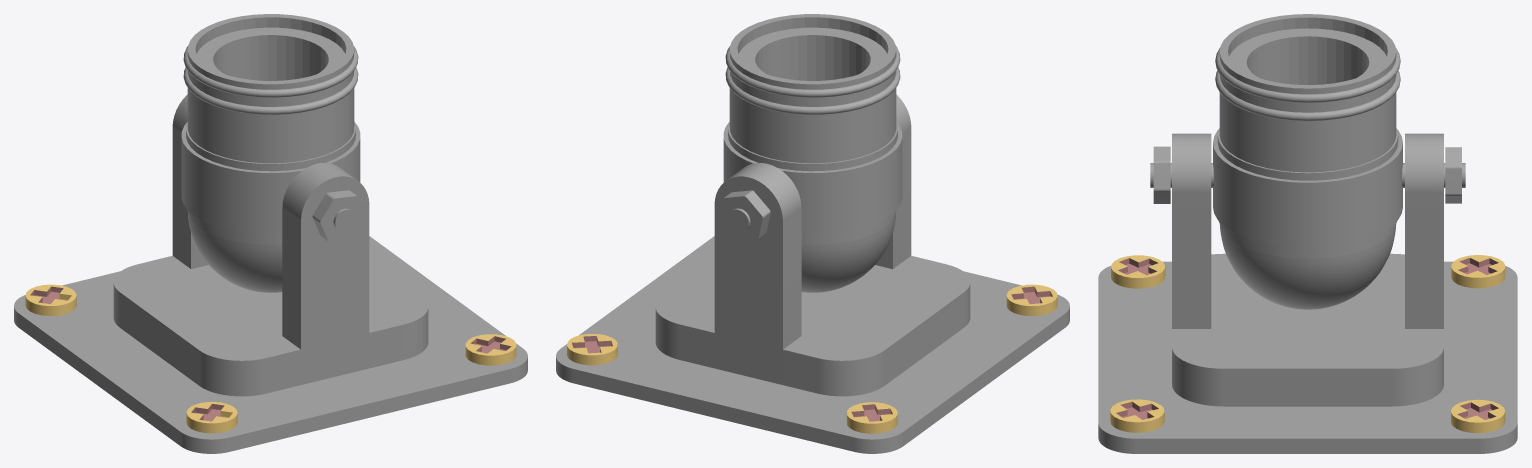
Rendered from LockEmitter.fbx.
3 views of the same model, side by side, from view 1: azimuth 30°, elevation 25°; view 2: azimuth 150°, elevation 25°; view 3: azimuth 270°, elevation 25° (orthographic). The views are drawn at different scales.
Visible parts, largest first — view 1: LockEmitterBase, LockEmitterBody, LockEmitterCilinders, LockEmitterFemaleScrew_L, Screw4, Screw5, Screw6; view 2: LockEmitterBase, LockEmitterBody, LockEmitterCilinders, LockEmitterFemaleScrew_R, Screw5, Screw6, Screw3; view 3: LockEmitterBase, LockEmitterBody, LockEmitterCilinders, Screw4, Screw5, Screw6, Screw3, LockEmitterFemaleScrew_L, LockEmitterFemaleScrew_R, LockEmitterBar.
Part boxes in pixels (x1,y1,x2,y2): LockEmitterBase: (14, 94, 527, 453); LockEmitterBody: (183, 14, 358, 292); LockEmitterCilinders: (181, 121, 360, 240); LockEmitterFemaleScrew_L: (312, 190, 366, 242); Screw4: (465, 334, 516, 365); Screw5: (186, 402, 237, 433); Screw6: (25, 284, 76, 315); LockEmitterBase: (556, 94, 1069, 453); LockEmitterBody: (725, 14, 900, 292); LockEmitterCilinders: (723, 121, 902, 240); LockEmitterFemaleScrew_R: (718, 190, 770, 242); Screw5: (1006, 284, 1057, 315); Screw6: (846, 402, 897, 433); Screw3: (567, 334, 617, 365); LockEmitterBase: (1098, 133, 1517, 453); LockEmitterBody: (1215, 14, 1400, 309); LockEmitterCilinders: (1213, 128, 1402, 253); Screw4: (1110, 399, 1164, 432); Screw5: (1111, 255, 1165, 288); Screw6: (1451, 255, 1505, 288); Screw3: (1451, 399, 1505, 433); LockEmitterFemaleScrew_L: (1153, 146, 1170, 203); LockEmitterFemaleScrew_R: (1445, 147, 1461, 203); LockEmitterBar: (1150, 163, 1465, 187).
Size of the model in its own units: 1 by 0.8269 by 1.
